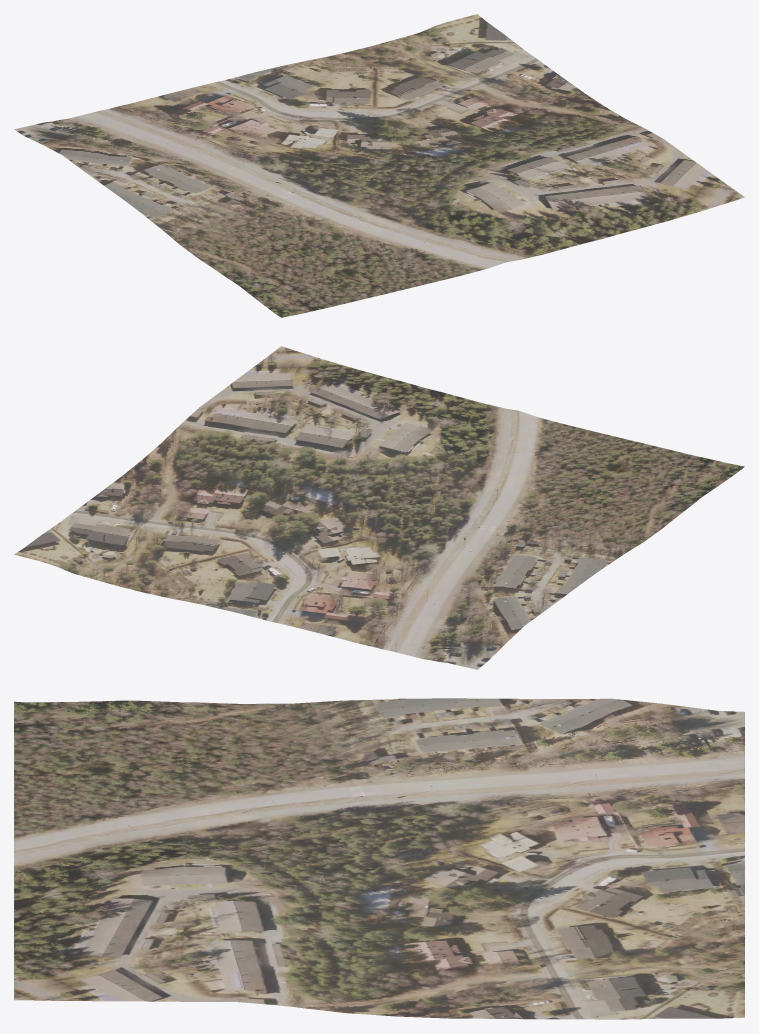
Rendered from CM_Terrain_24490458_6817132.fbx.
The picture shows the model from 3 angles, top to bottom: view 1: azimuth 30°, elevation 25°; view 2: azimuth 150°, elevation 25°; view 3: azimuth 270°, elevation 25°; orthographic projection. The views are drawn at different scales.
Parts seen in each view (by area): view 1: CM_Terrain_24490458_6817132_LOD0; view 2: CM_Terrain_24490458_6817132_LOD0; view 3: CM_Terrain_24490458_6817132_LOD0.
Part boxes in pixels (left/top/right/bottom): CM_Terrain_24490458_6817132_LOD0: left=14, top=14, right=744, bottom=317; CM_Terrain_24490458_6817132_LOD0: left=14, top=346, right=744, bottom=669; CM_Terrain_24490458_6817132_LOD0: left=14, top=698, right=744, bottom=1019.
Size of what is drawn, in the model's own units: 205 by 8.4 by 205.
